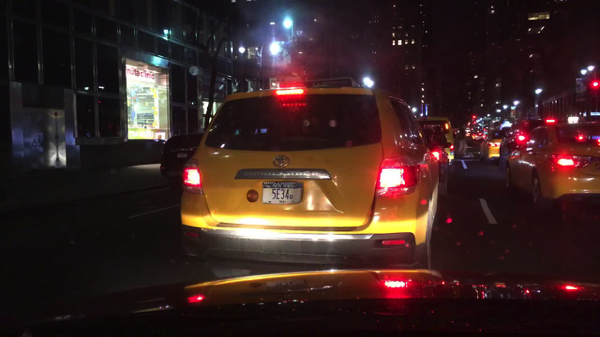car: (180, 76, 441, 276), (506, 115, 599, 206), (497, 118, 565, 170), (160, 132, 204, 191), (415, 115, 455, 168), (478, 121, 513, 163), (427, 139, 452, 196), (471, 131, 488, 141)
person: (433, 128, 451, 150), (456, 127, 467, 162), (417, 123, 430, 137)
traffic light: (593, 81, 598, 91), (472, 116, 476, 121)
